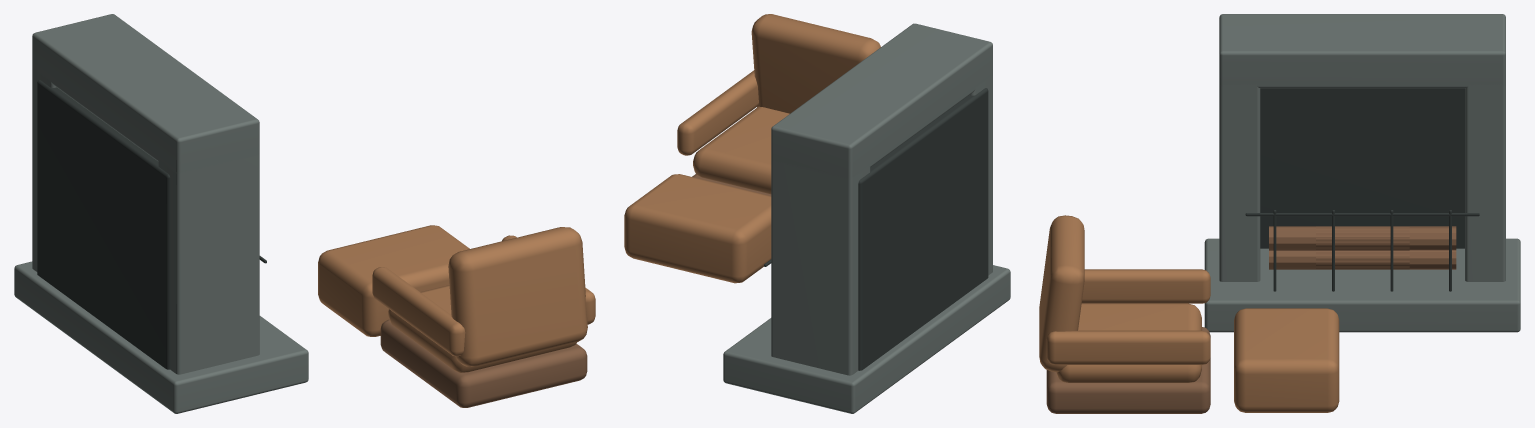
File: interior.glb
3 renders of one model, left to right at view 1: azimuth 30°, elevation 25°; view 2: azimuth 150°, elevation 25°; view 3: azimuth 270°, elevation 25°, orthographic. The views are drawn at different scales.
Parts seen in each view (by area): view 1: 耐火后壁, 石壁炉顶, 石壁炉侧柱, 皮椅靠背, 石壁炉底座, 脚凳, 皮椅底座, 皮椅扶手, 皮椅坐垫, 石壁炉侧柱.001; view 2: 耐火后壁, 石壁炉顶, 石壁炉侧柱.001, 脚凳, 石壁炉底座, 皮椅靠背, 皮椅坐垫, 皮椅扶手.001, 石壁炉侧柱; view 3: 耐火后壁, 石壁炉顶, 石壁炉底座, 脚凳, 石壁炉侧柱, 石壁炉侧柱.001, 皮椅坐垫, 皮椅扶手.001, 皮椅底座, 皮椅靠背, 皮椅扶手, 壁炉木柴.002 (+4 smaller).
Boxes of the visible parts, x1=… form: 耐火后壁: x1=37, y1=80, x2=170, y2=369; 石壁炉顶: x1=32, y1=14, x2=259, y2=173; 石壁炉侧柱: x1=158, y1=154, x2=259, y2=374; 皮椅靠背: x1=448, y1=227, x2=587, y2=366; 石壁炉底座: x1=14, y1=261, x2=308, y2=413; 脚凳: x1=318, y1=225, x2=469, y2=336; 皮椅底座: x1=380, y1=319, x2=587, y2=407; 皮椅扶手: x1=372, y1=267, x2=465, y2=356; 皮椅坐垫: x1=388, y1=285, x2=576, y2=372; 石壁炉侧柱.001: x1=32, y1=67, x2=56, y2=271; 耐火后壁: x1=858, y1=88, x2=988, y2=370; 石壁炉顶: x1=771, y1=23, x2=992, y2=179; 石壁炉侧柱.001: x1=771, y1=160, x2=870, y2=375; 脚凳: x1=624, y1=174, x2=771, y2=283; 石壁炉底座: x1=723, y1=265, x2=1010, y2=413; 皮椅靠背: x1=751, y1=14, x2=880, y2=113; 皮椅坐垫: x1=693, y1=106, x2=789, y2=194; 皮椅扶手.001: x1=677, y1=70, x2=758, y2=155; 石壁炉侧柱: x1=969, y1=75, x2=992, y2=275; 耐火后壁: x1=1260, y1=88, x2=1464, y2=248; 石壁炉顶: x1=1219, y1=14, x2=1505, y2=88; 石壁炉底座: x1=1204, y1=238, x2=1520, y2=332; 脚凳: x1=1234, y1=308, x2=1339, y2=412; 石壁炉侧柱: x1=1219, y1=84, x2=1260, y2=281; 石壁炉侧柱.001: x1=1465, y1=84, x2=1505, y2=281; 皮椅坐垫: x1=1056, y1=303, x2=1201, y2=382; 皮椅扶手.001: x1=1046, y1=330, x2=1210, y2=364; 皮椅底座: x1=1046, y1=327, x2=1210, y2=413; 皮椅靠背: x1=1039, y1=215, x2=1084, y2=372; 皮椅扶手: x1=1081, y1=269, x2=1210, y2=303; 壁炉木柴.002: x1=1269, y1=226, x2=1409, y2=250.
Size of the model in its own units: 3.3 by 2.47 by 4.11.
